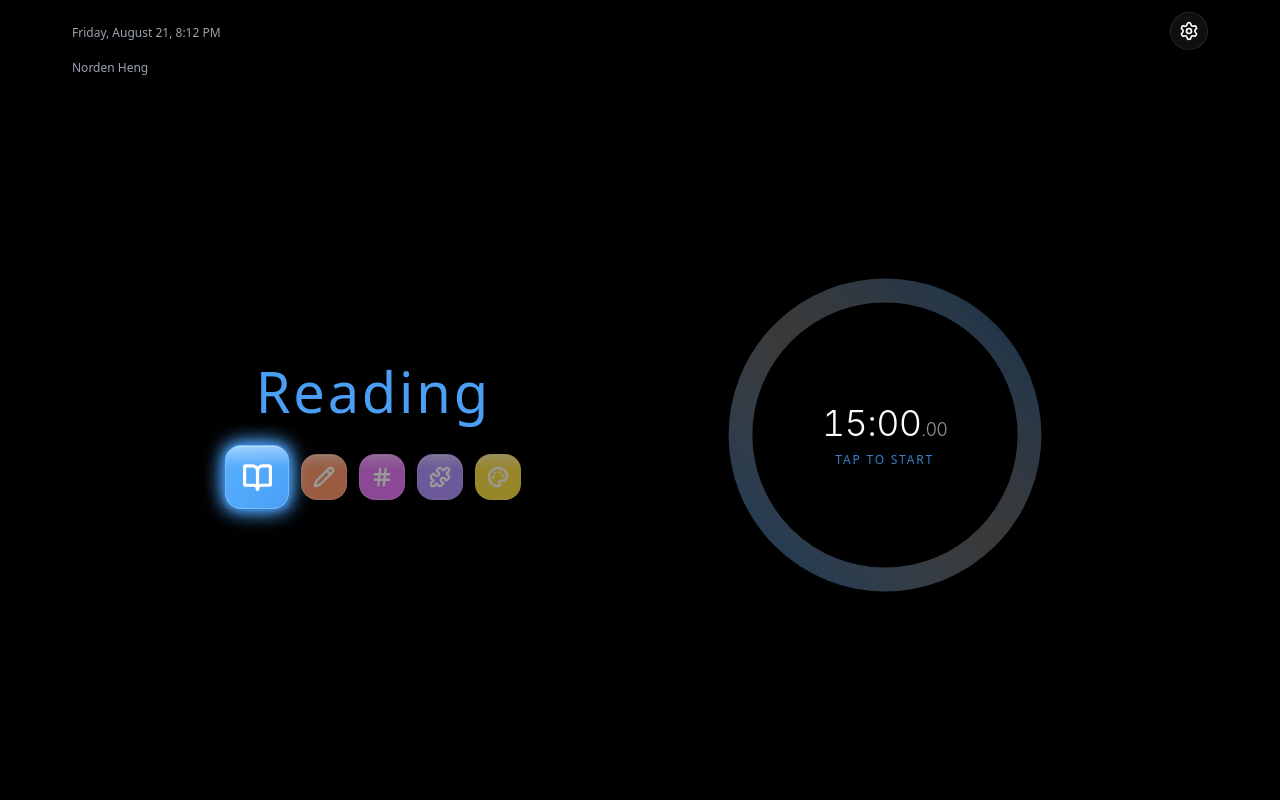
Test case: App core flow › guards against disabling the last enabled mode
The image size is (1280, 800).
Step 1. Click the button named "Open settings" → (1189, 31), box [1170,12,1208,50]
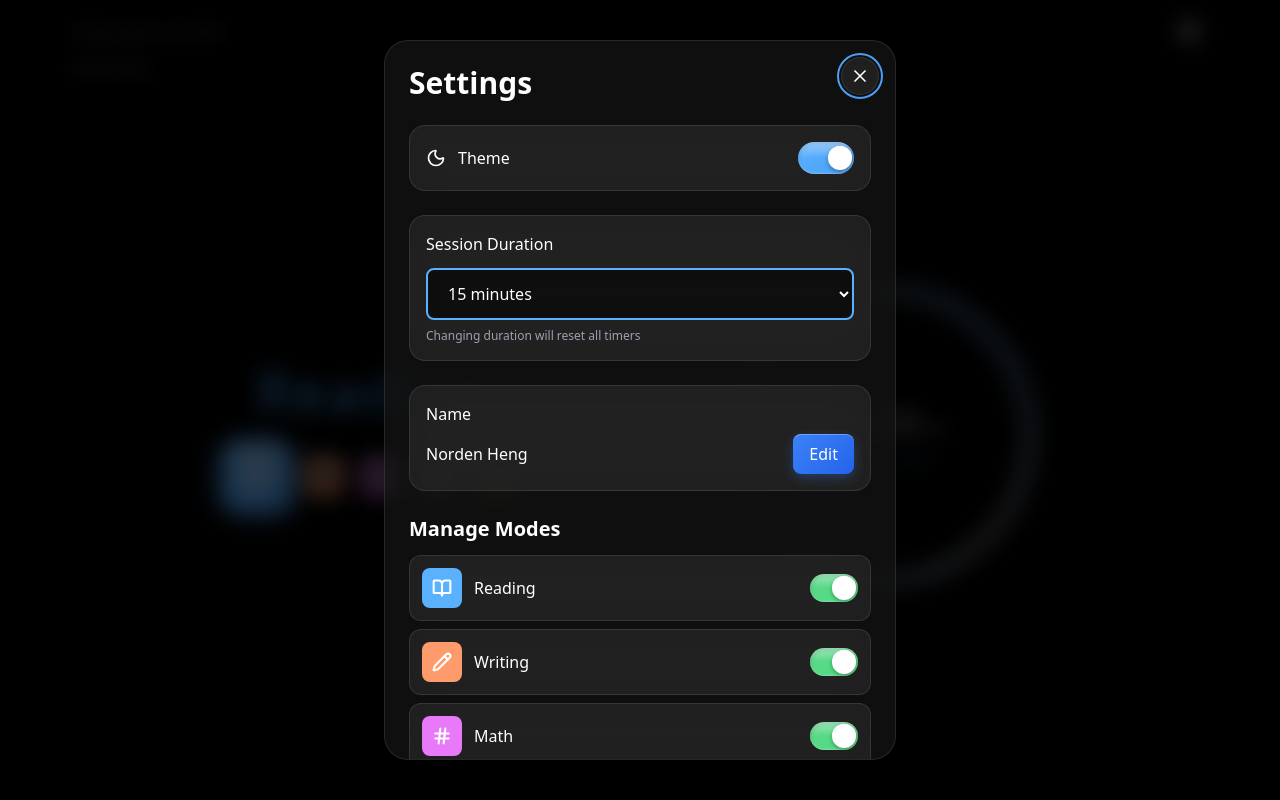
Step 2. Click the switch named "Disable Writing mode" → (834, 662), box [810,648,858,676]
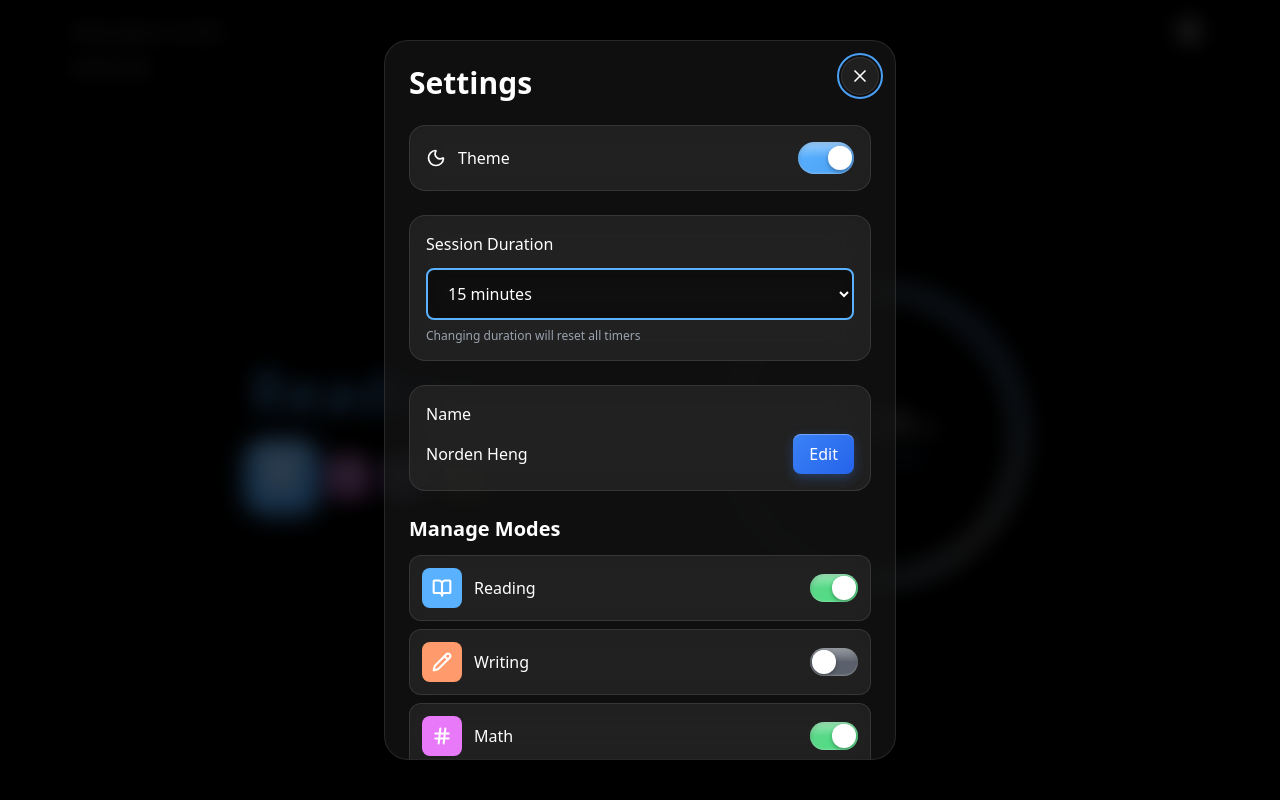
Step 3. Click the switch named "Disable Math mode" → (834, 736), box [810,722,858,750]
(page scrolled)
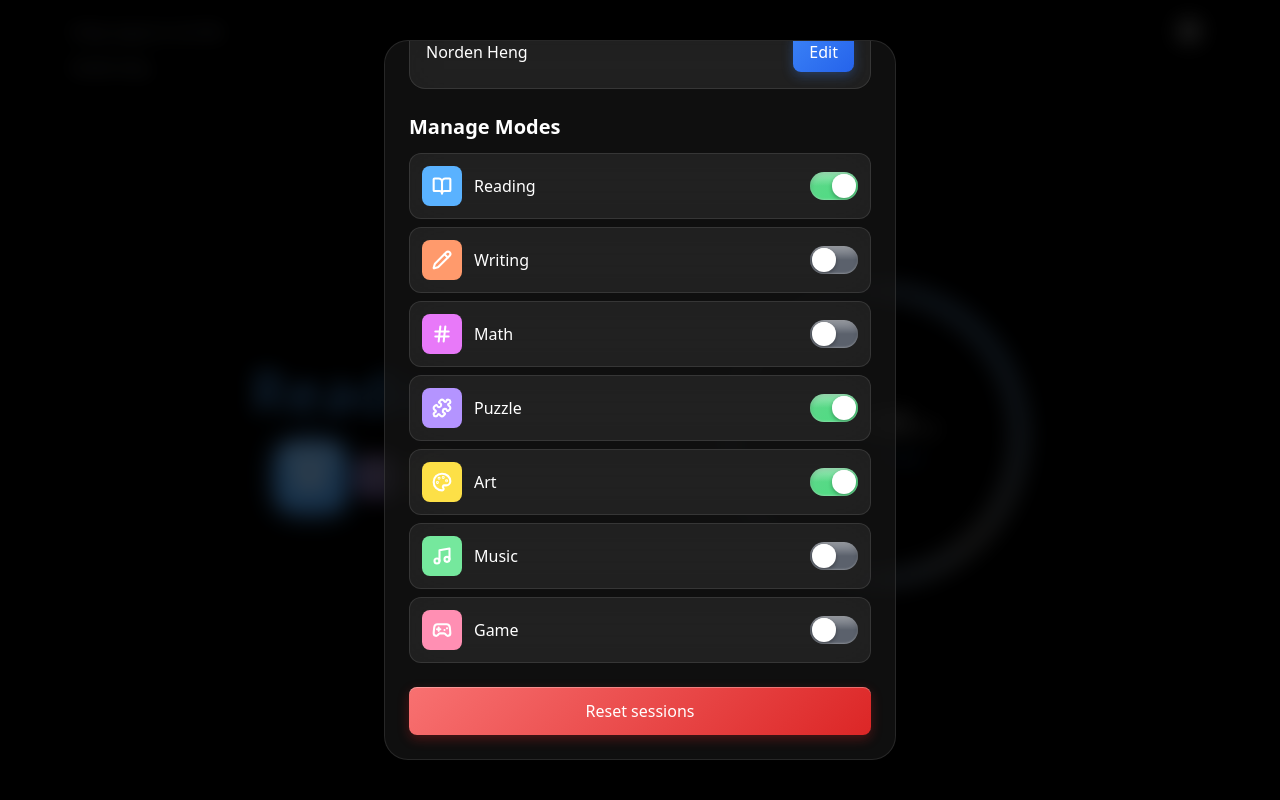
Step 4. Click the switch named "Disable Puzzle mode" → (834, 408), box [810,394,858,422]
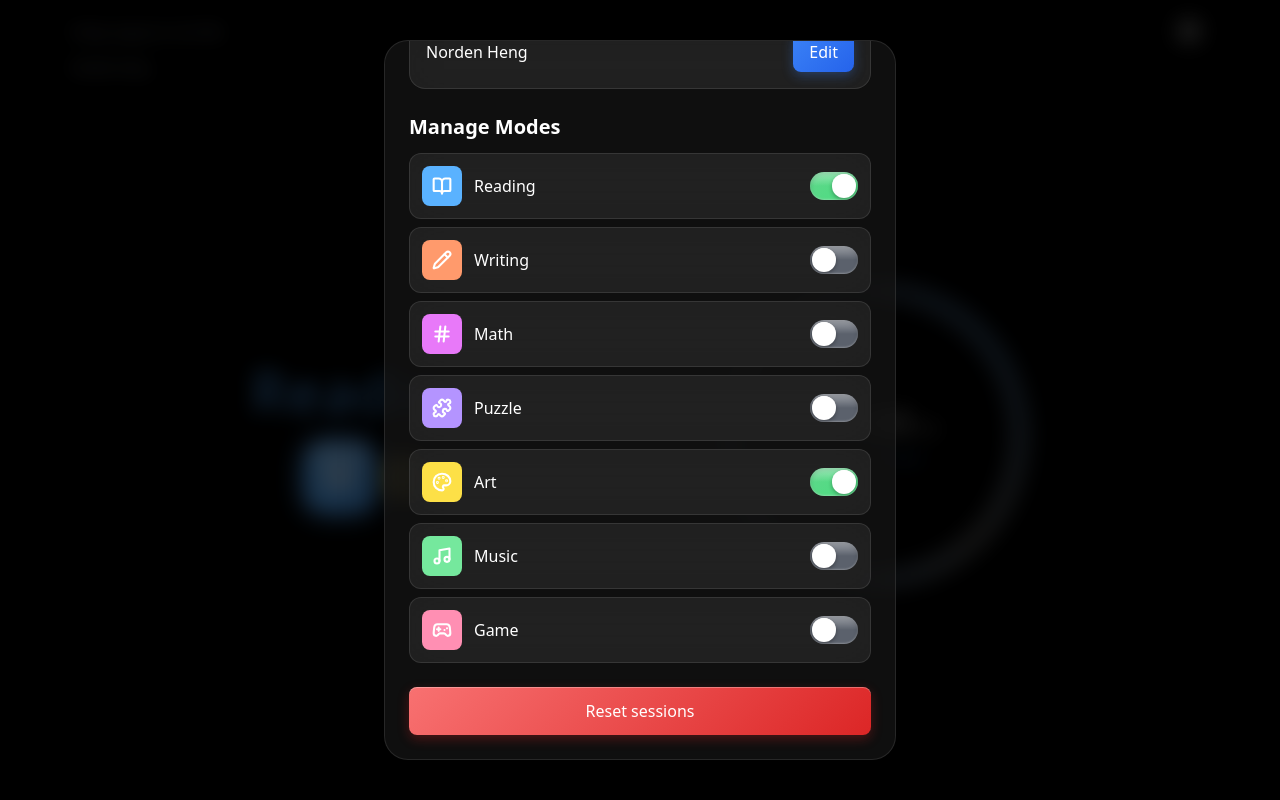
Step 5. Click the switch named "Disable Art mode" → (834, 482), box [810,468,858,496]
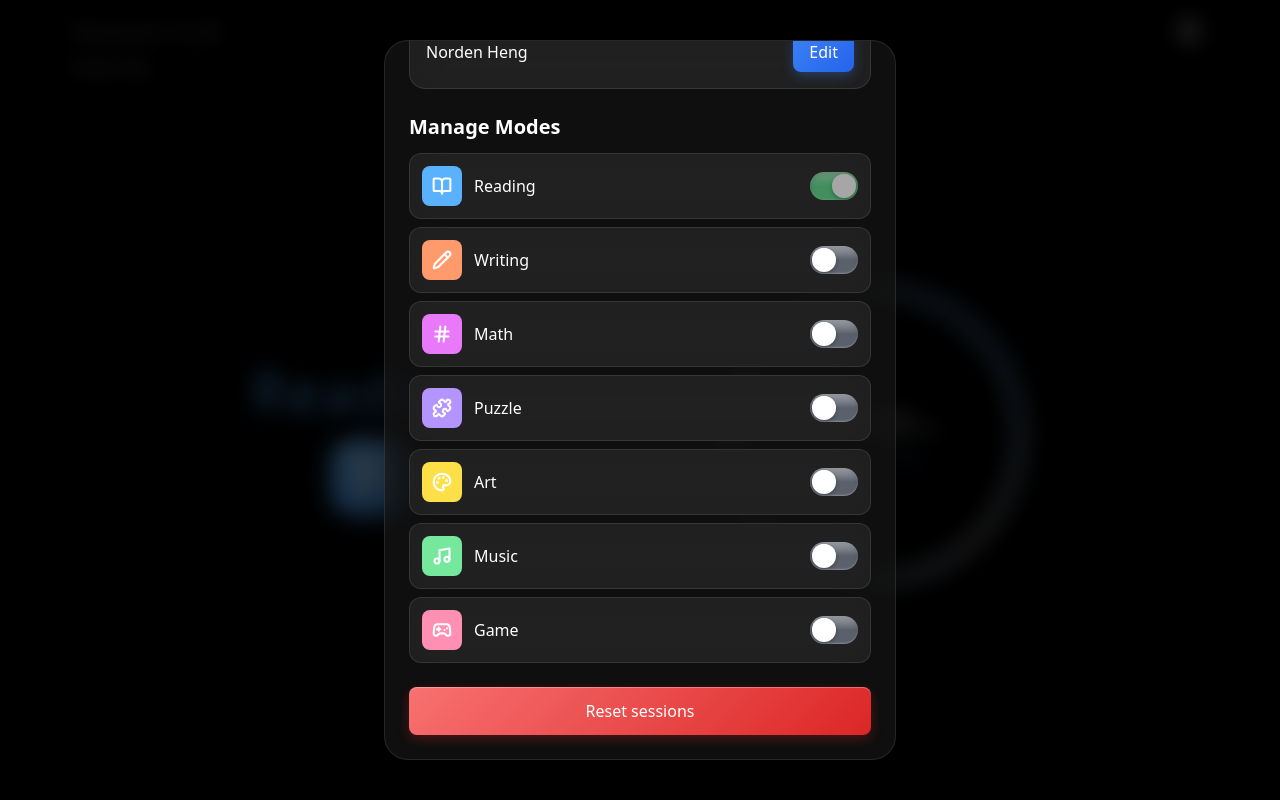
Expected: the switch named "Disable Reading mode" is disabled, [810,172,858,200]
